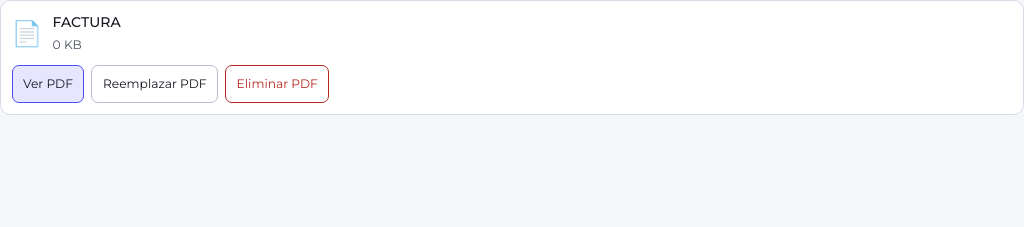
Test: AdjuntoPdf (HU-007-7) › pide confirmación antes de eliminar y solo elimina al confirmar
The width and height of the screenshot is (1024, 227).
Later steps or results of the test are not shown.
Click the button "Eliminar PDF". click: [277, 84]
box: [225, 65, 329, 103]
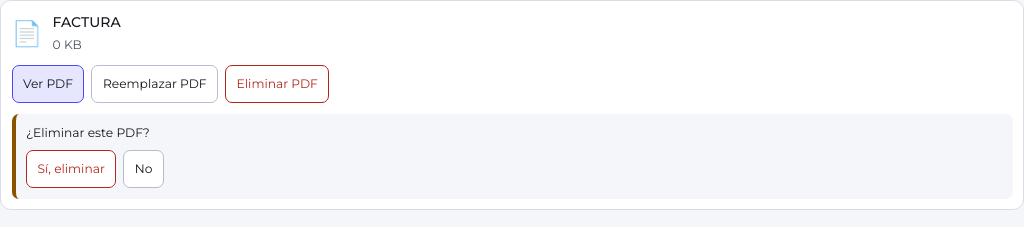
Result: the text "¿Eliminar este PDF?" is shown at [26, 125, 150, 140]
